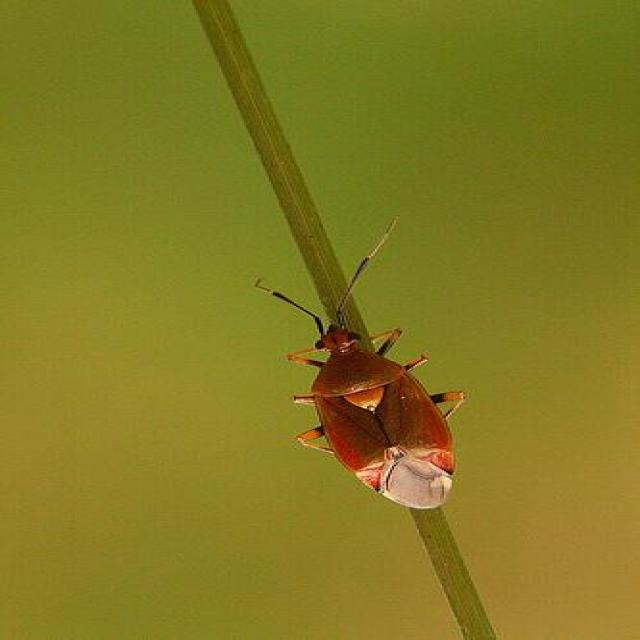Miridae-Adult-: (246, 213, 473, 516)
